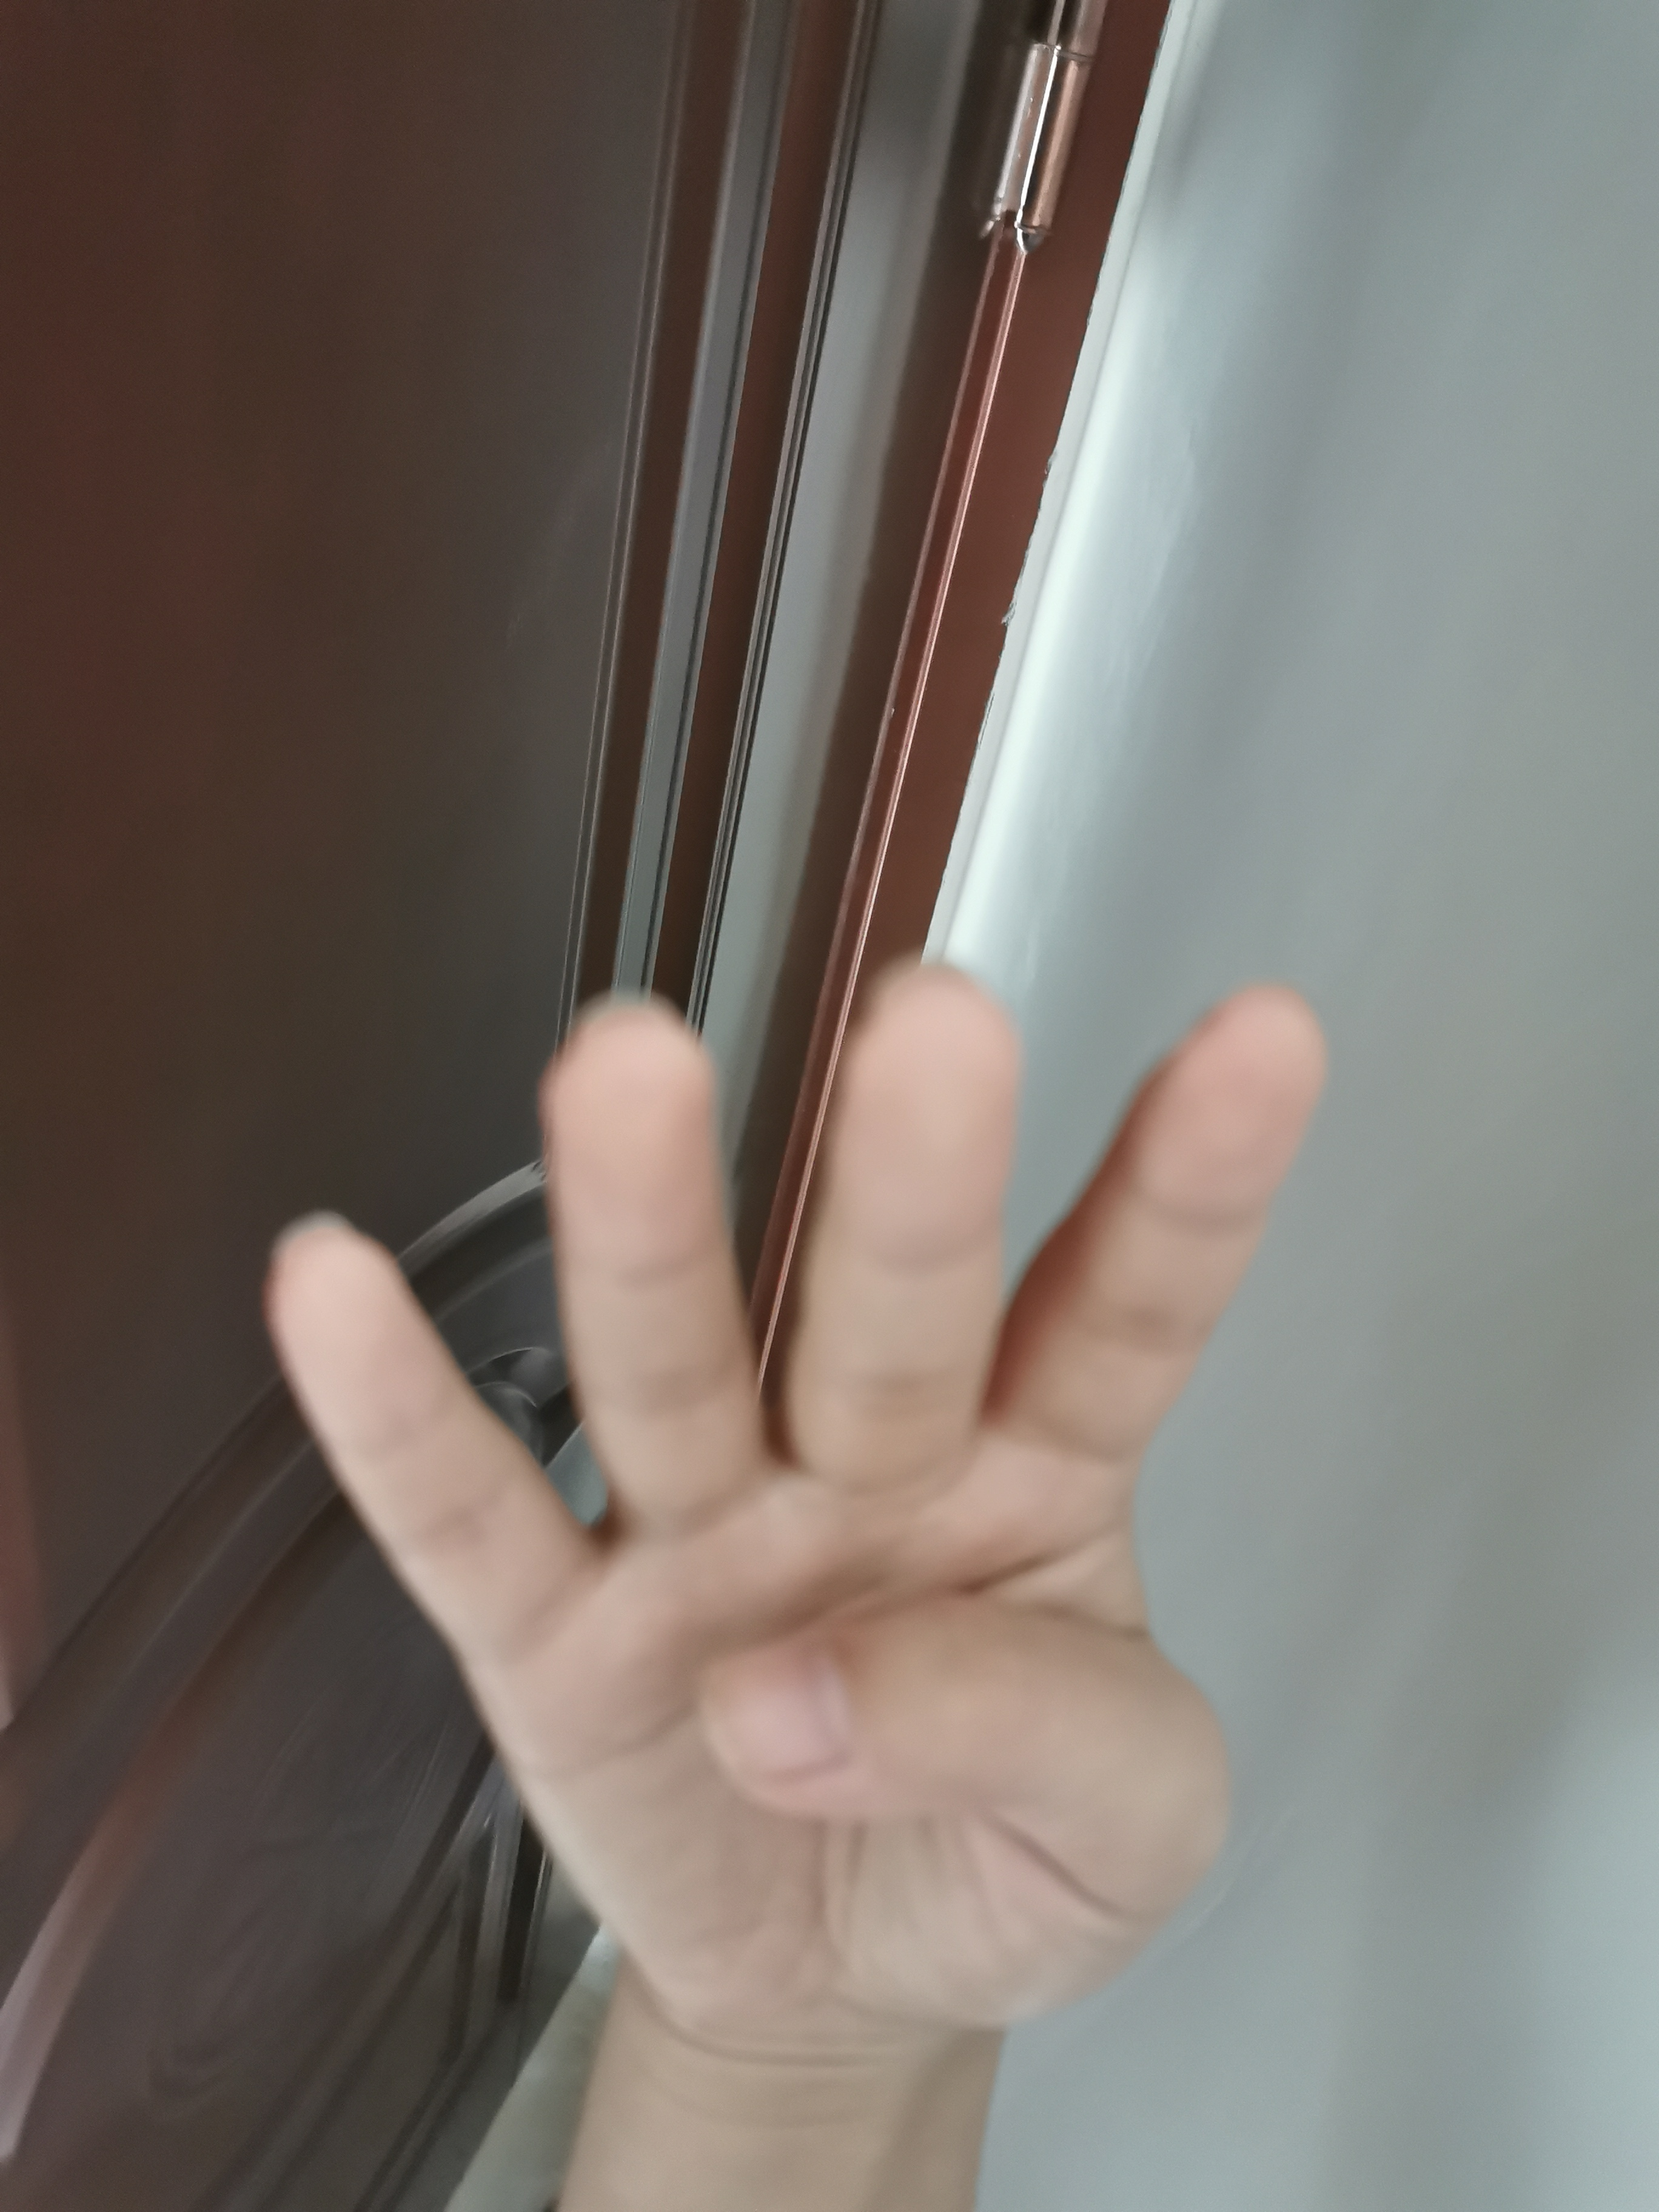right: (258, 941, 1394, 2033)
